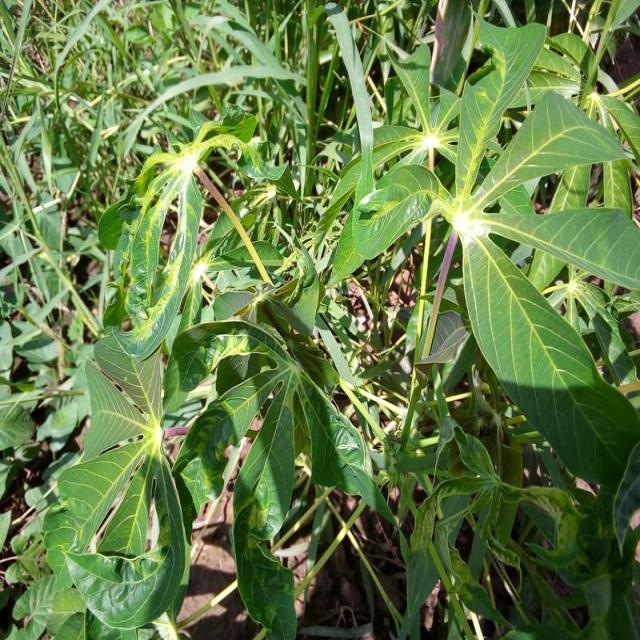cassava leaf: (12, 1, 638, 637), (326, 3, 638, 493), (460, 230, 638, 490)
